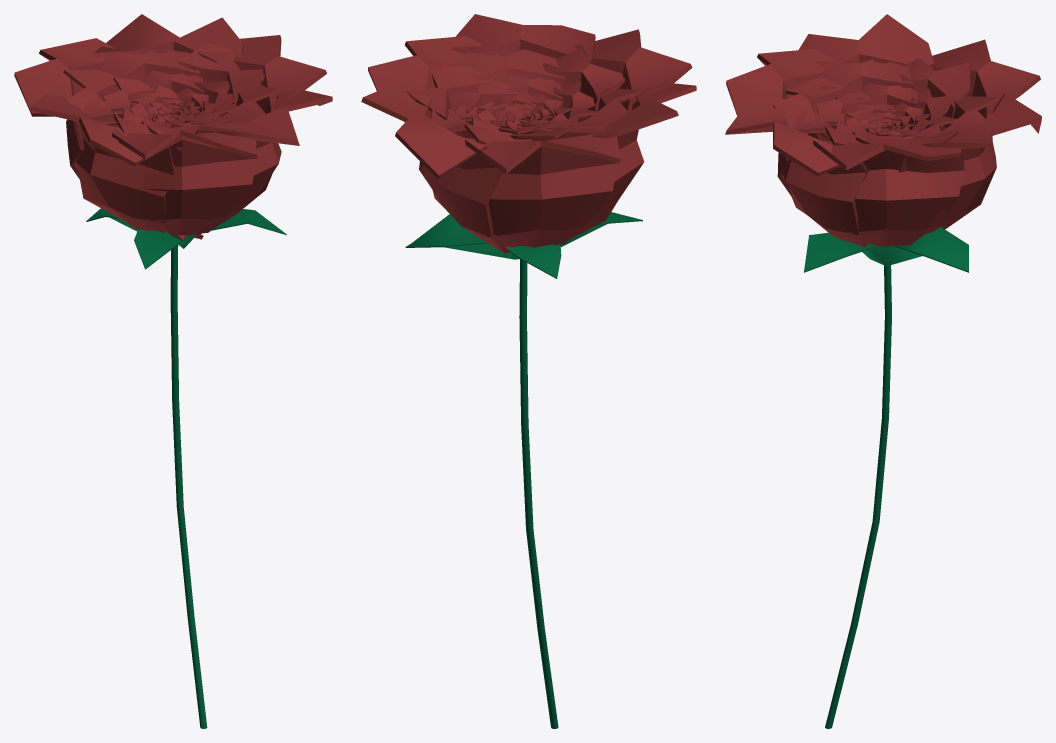
File: rose.fbx
The picture shows the model from 3 angles, left to right: view 1: azimuth 30°, elevation 25°; view 2: azimuth 150°, elevation 25°; view 3: azimuth 270°, elevation 25°; orthographic projection. The views are drawn at different scales.
Parts seen in each view (by area): view 1: pSphere220; view 2: pSphere220; view 3: pSphere220.
Part boxes in pixels (x1,y1,x2,y2): pSphere220: (14,14,332,728); pSphere220: (361,14,696,728); pSphere220: (725,14,1041,728).
Bounding box in the file's own units: 2.51 × 5.48 × 2.45.
